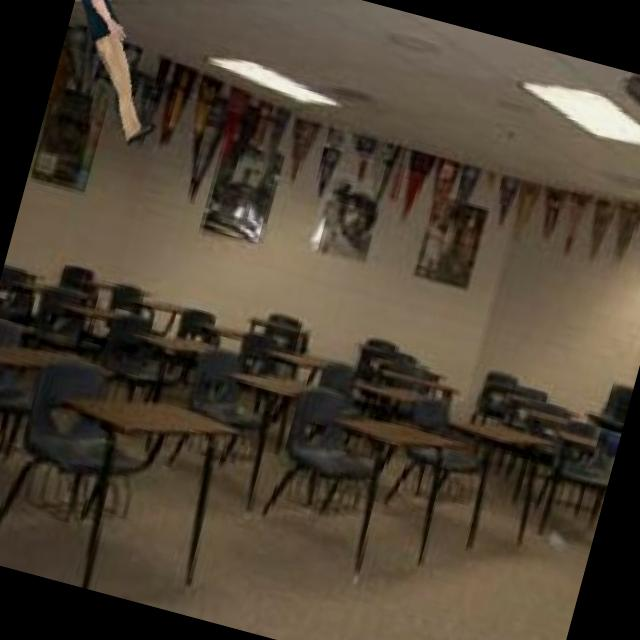Person: (41, 0, 198, 154)
